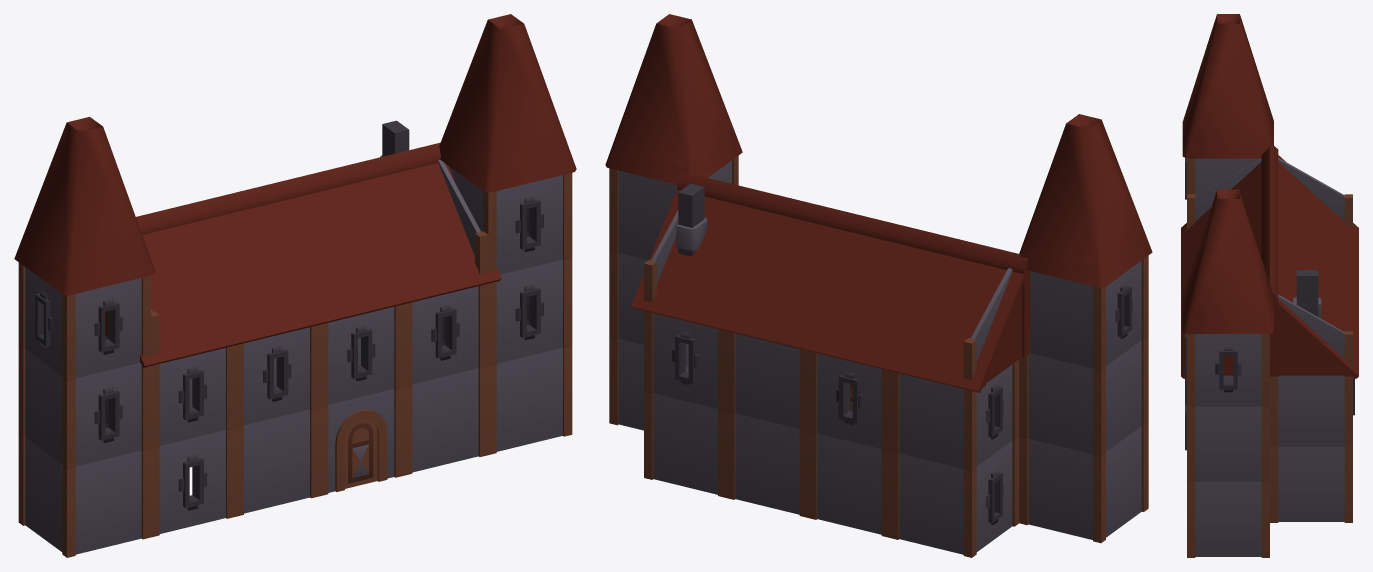
Rendered from demeure-volcan.glb.
3 views of the same model, side by side, from view 1: azimuth 30°, elevation 25°; view 2: azimuth 150°, elevation 25°; view 3: azimuth 270°, elevation 25° (orthographic). The views are drawn at different scales.
Parts seen in each view (by area): view 1: wall-window-stone, roof-high; view 2: wall-window-stone, roof-high; view 3: wall-window-stone, roof-high.
Part boxes in pixels (bbox=[...]): wall-window-stone: bbox=[18, 120, 572, 557]; roof-high: bbox=[14, 14, 576, 367]; wall-window-stone: bbox=[609, 156, 1148, 557]; roof-high: bbox=[605, 14, 1152, 392]; wall-window-stone: bbox=[1185, 158, 1354, 557]; roof-high: bbox=[1181, 14, 1358, 378].
Size of the model in its own units: 18.3 by 13.8 by 6.42.
2 materials, 1 textured.
